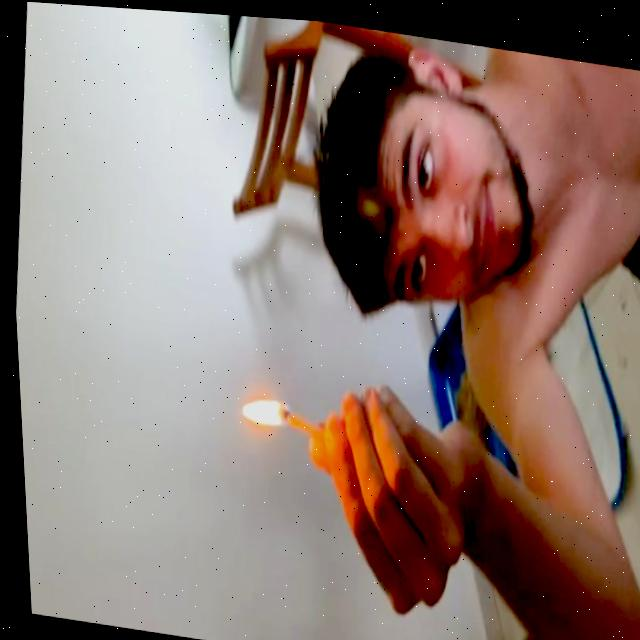Fire: (234, 383, 290, 433)
